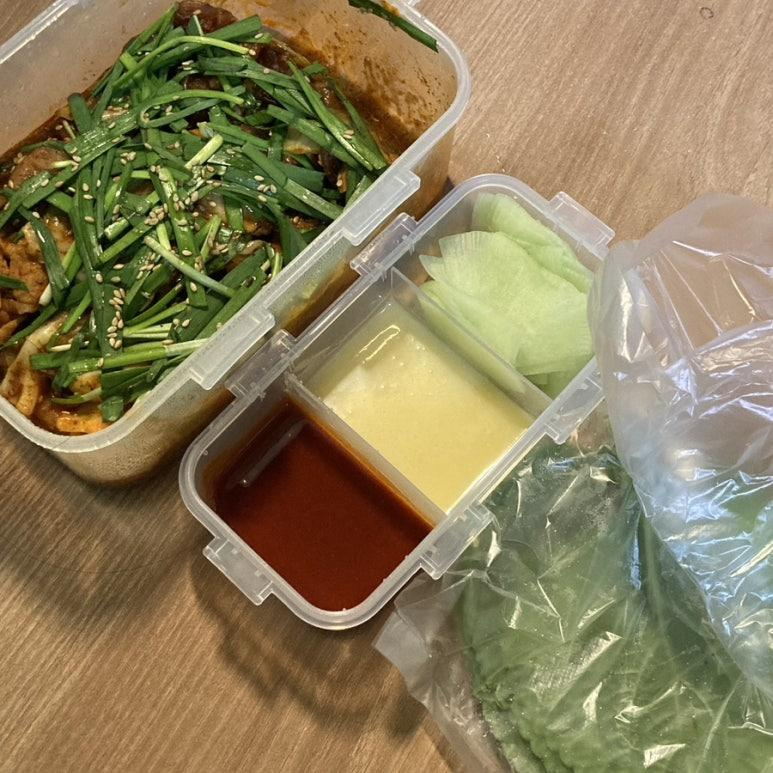Lunch Box: (0, 0, 470, 485), (178, 175, 613, 629)
